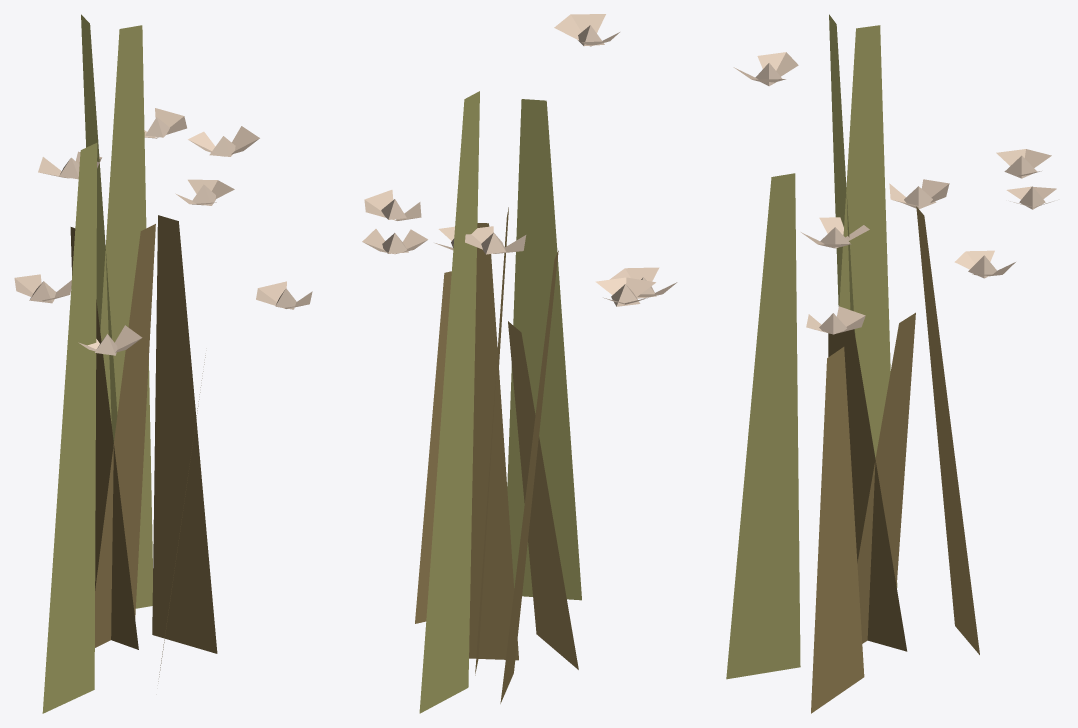
The model's file is nong.su@flowering__autumn.glb.
3 renders of one model, left to right at view 1: azimuth 30°, elevation 25°; view 2: azimuth 150°, elevation 25°; view 3: azimuth 270°, elevation 25°, orthographic. The views are drawn at different scales.
Visible parts, largest first — view 1: nong.su@flowering__autumn; view 2: nong.su@flowering__autumn; view 3: nong.su@flowering__autumn.
Part boxes in pixels (box(x1,y1,x2,y2)): nong.su@flowering__autumn: box(14, 14, 312, 713); nong.su@flowering__autumn: box(362, 14, 677, 713); nong.su@flowering__autumn: box(726, 14, 1056, 713).
Bounding box in the file's own units: 0.4721 × 0.9887 × 0.4925.
